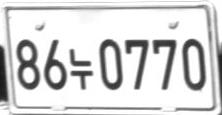0: (181, 37, 207, 91), (98, 38, 123, 90)
6: (43, 39, 67, 90)
7: (151, 38, 177, 90), (124, 39, 150, 90)
8: (15, 39, 40, 90)
누: (68, 48, 93, 90)
